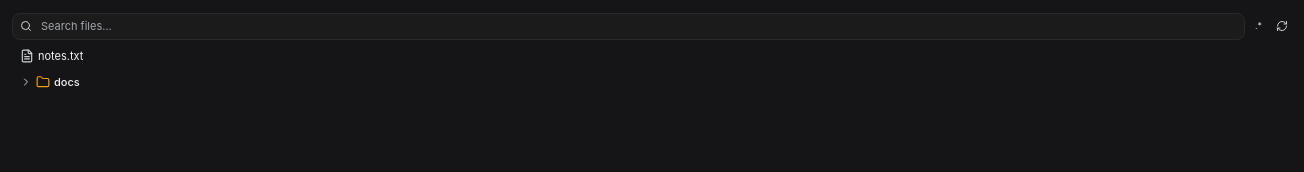
Scenario: FileExplorer browser › searches via the client and renders matching files
Type "report" into the field with test id "file-search".
click(628, 26); type("report")  # box [12,13,1245,40]
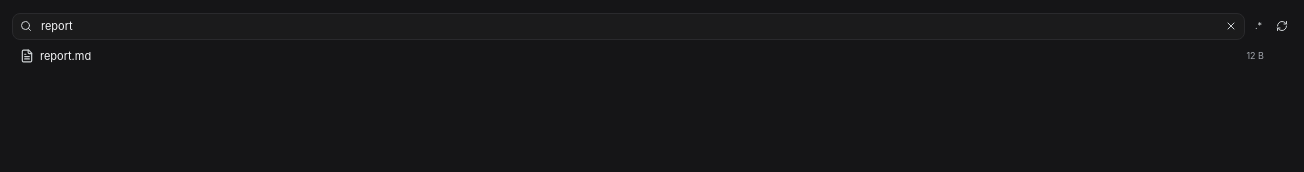
Expected: the element with test id "search-result-report.md" is shown, [20,48,1264,63]
